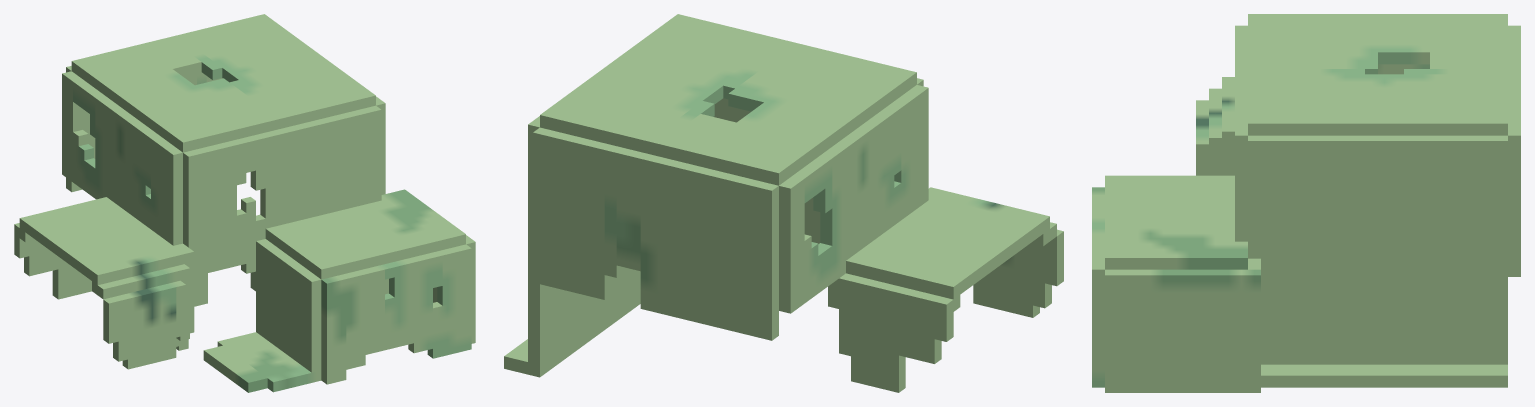
Rendered from Crate_DrapeGreen_00.fbx.
The picture shows the model from 3 angles, left to right: view 1: azimuth 30°, elevation 25°; view 2: azimuth 150°, elevation 25°; view 3: azimuth 270°, elevation 25°; orthographic projection. The views are drawn at different scales.
Visible parts, largest first — view 1: Crate_DrapeGreen_00; view 2: Crate_DrapeGreen_00; view 3: Crate_DrapeGreen_00.
Boxes of the visible parts, x1,y1,x2,y2 form: Crate_DrapeGreen_00: (14,14,475,392); Crate_DrapeGreen_00: (504,14,1063,392); Crate_DrapeGreen_00: (1092,14,1520,392).
Bounding box in the file's own units: 170 × 105 × 165.
